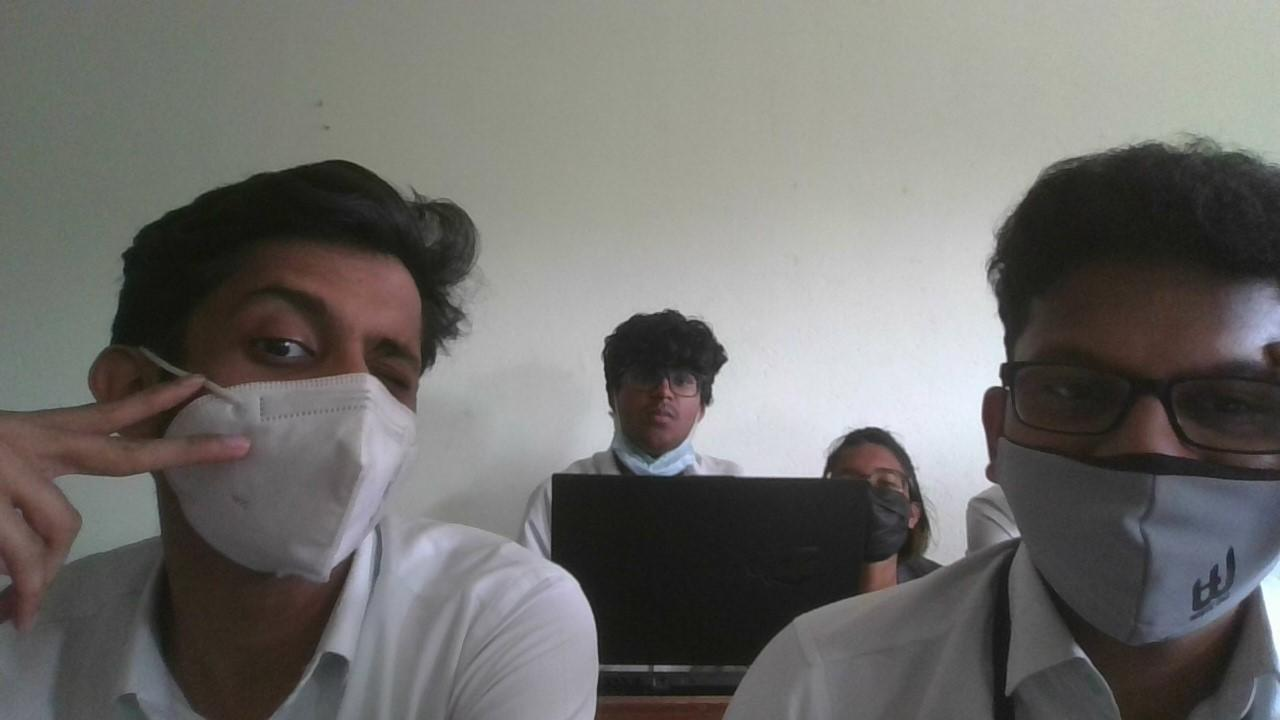nohelmet: (89, 157, 460, 578), (986, 138, 1280, 649), (602, 309, 720, 457), (820, 425, 930, 563)
